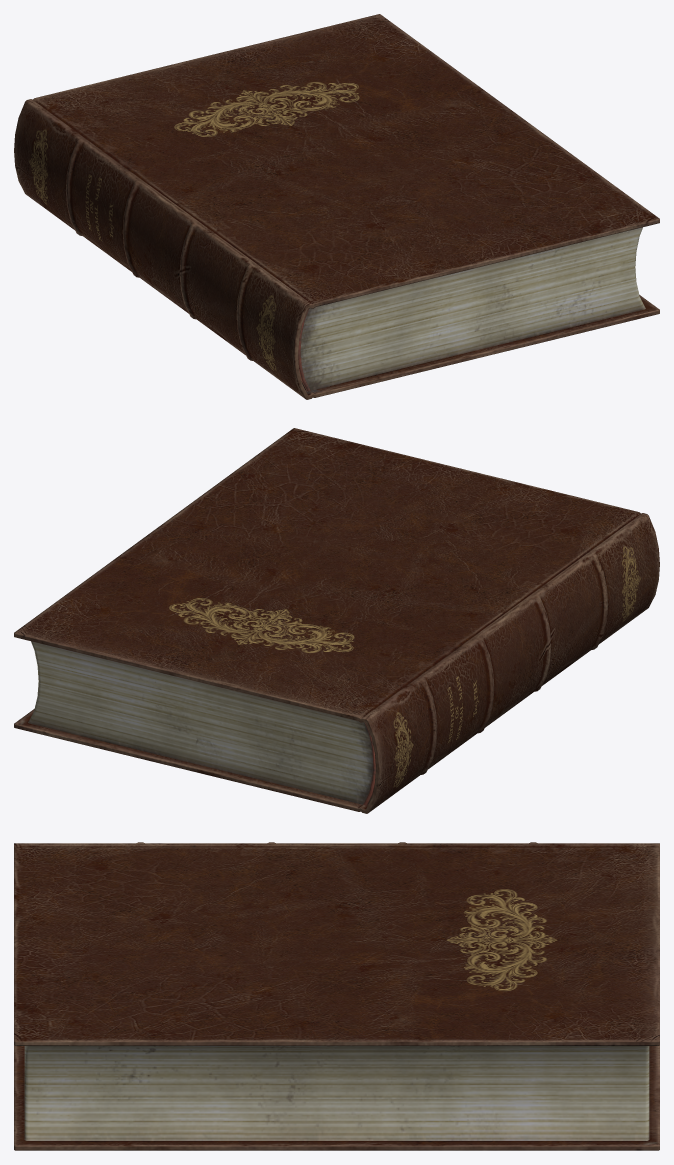
File: book.glb
3 renders of one model, top to bottom at view 1: azimuth 30°, elevation 25°; view 2: azimuth 150°, elevation 25°; view 3: azimuth 270°, elevation 25°, orthographic. The views are drawn at different scales.
Parts seen in each view (by area): view 1: Low poly scale applied; view 2: Low poly scale applied; view 3: Low poly scale applied.
Part boxes in pixels (box(x1,y1,x2,y2)): Low poly scale applied: box(14, 14, 659, 399); Low poly scale applied: box(14, 428, 659, 813); Low poly scale applied: box(14, 842, 659, 1150).
Size of the model in its own units: 0.2271 by 0.0559 by 0.3002.
Materials: 1 (1 with a texture image).
